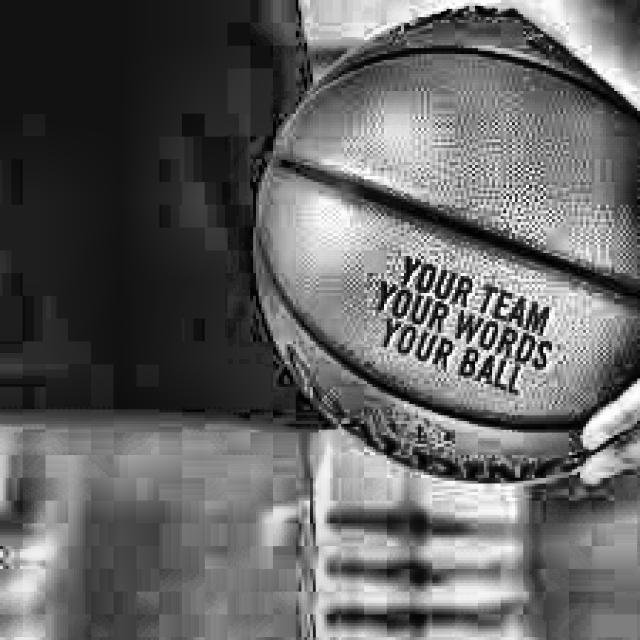Basketball: (259, 9, 640, 479)
